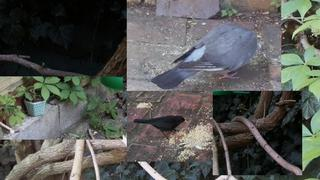blackbird: (133, 115, 189, 140)
wood pigeon: (151, 24, 257, 90)
